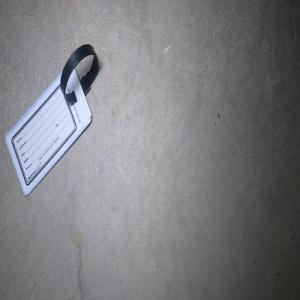LuggageTag: (3, 43, 99, 197)
